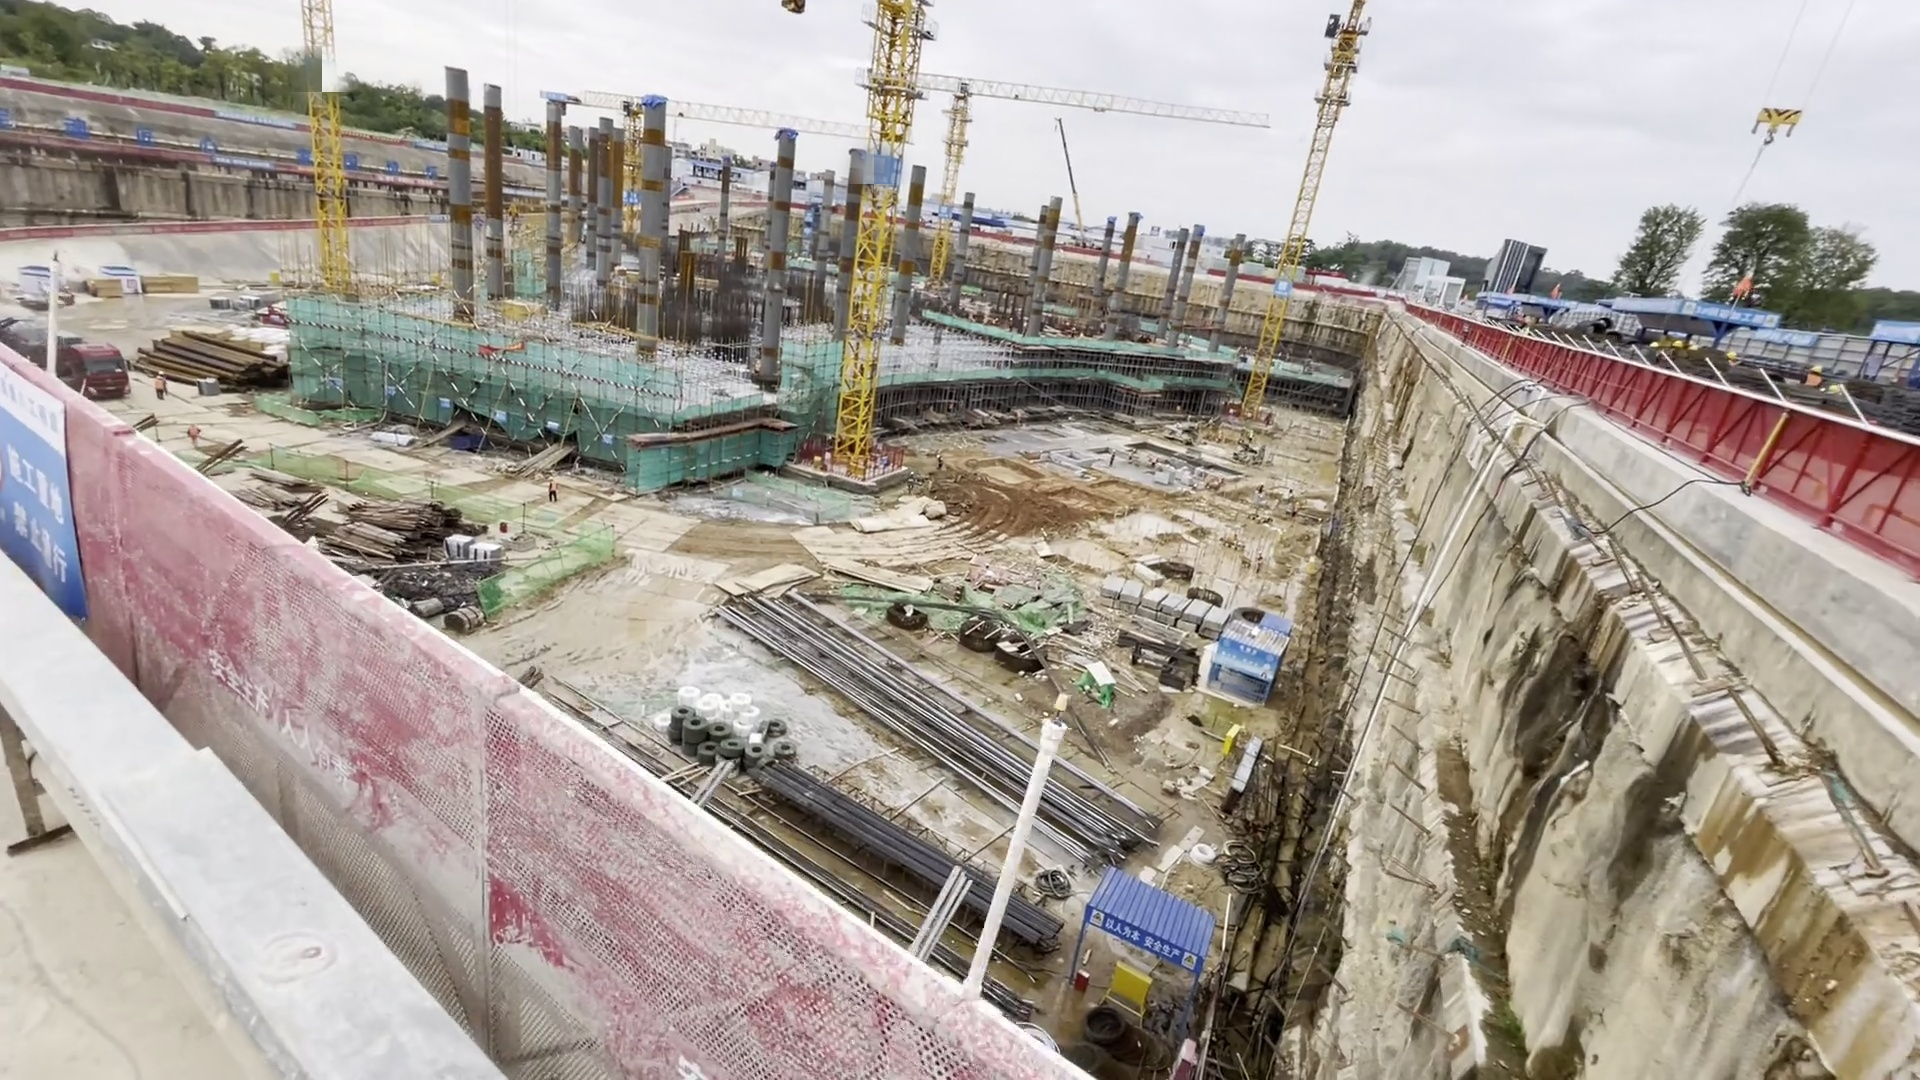board: (740, 557, 941, 602)
brick: (1103, 574, 1224, 636), (447, 533, 511, 579)
ebox: (848, 457, 866, 479)
fence: (155, 524, 731, 1080), (1581, 389, 1917, 553)
helmet: (1722, 350, 1740, 362), (1809, 362, 1825, 375), (1670, 339, 1684, 348), (548, 475, 554, 481)
hook: (1747, 101, 1806, 148)
person: (179, 419, 210, 454), (544, 472, 566, 508), (928, 450, 948, 473), (151, 370, 168, 399), (906, 468, 916, 494), (1109, 447, 1117, 472)
rebar: (784, 767, 1073, 963)
slogan: (201, 643, 367, 803), (1, 425, 79, 589), (1, 105, 229, 160), (299, 135, 453, 191), (1094, 906, 1195, 953)
wood: (354, 490, 440, 553)
